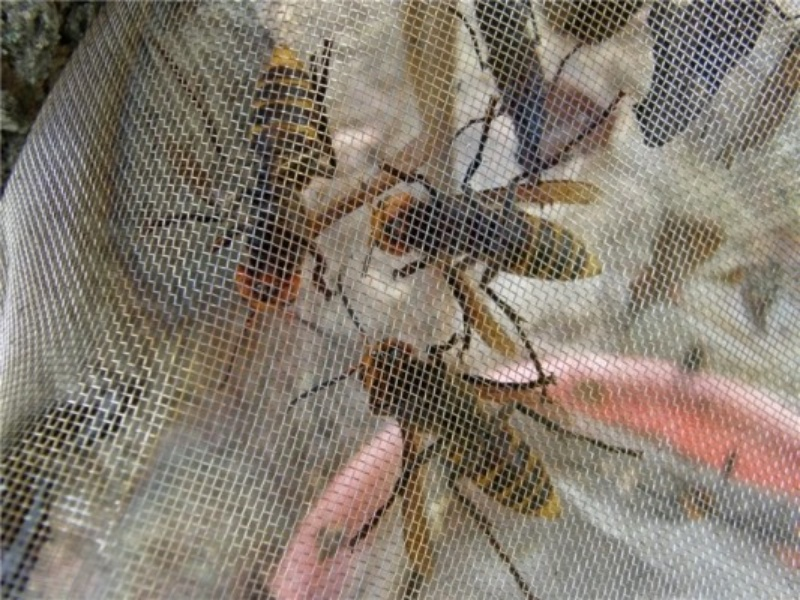asian_giant_hornet: (303, 284, 615, 574), (174, 39, 381, 336), (362, 144, 612, 357)
